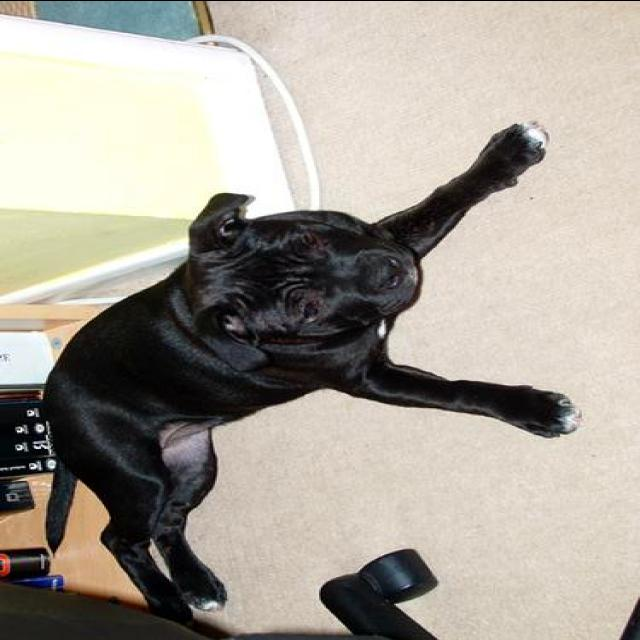staffordshire_bullterrier: (42, 119, 584, 627)
